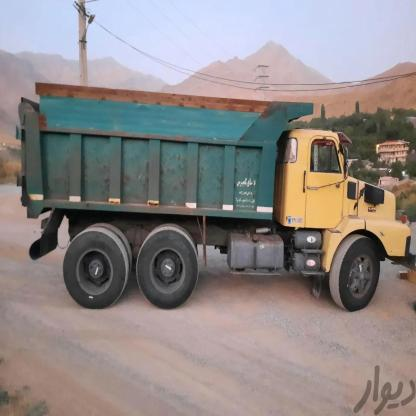Truck: (0, 71, 416, 325)
